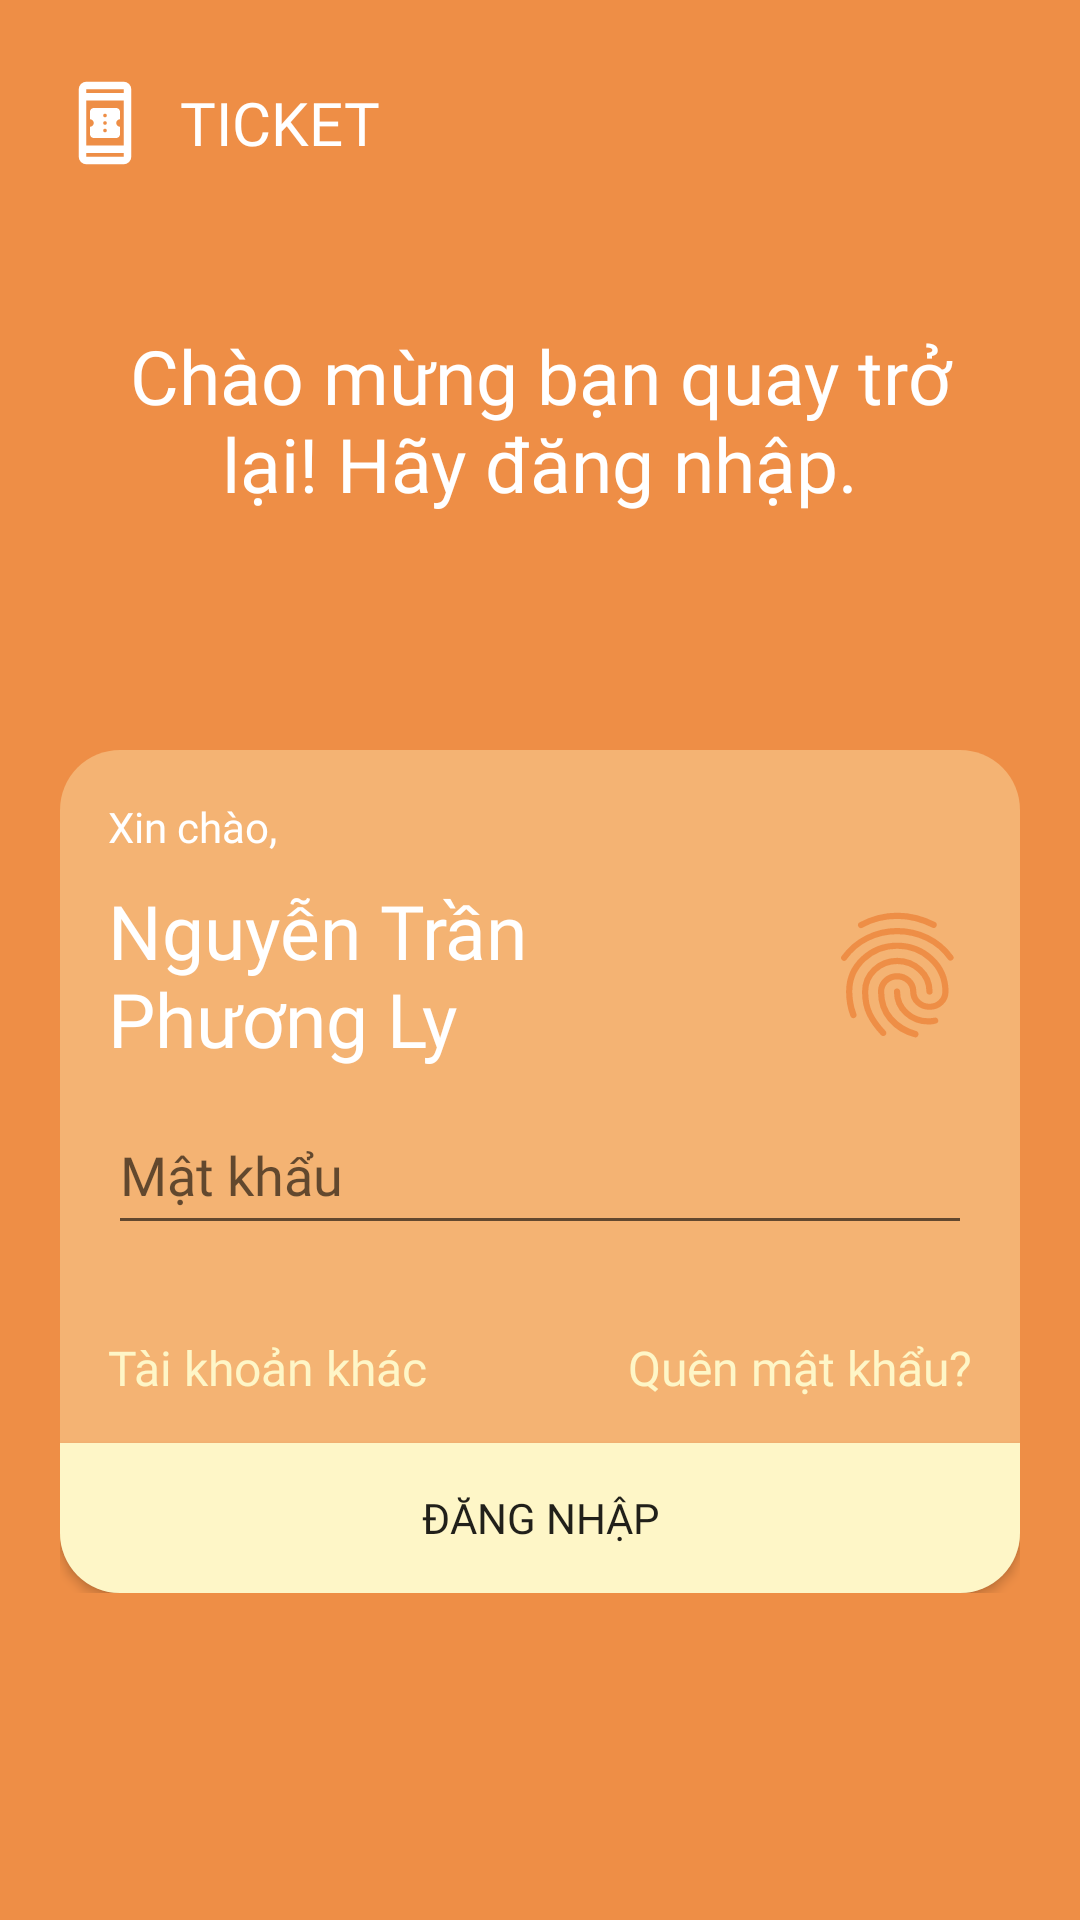

Where to tap for icons on this 1080px x 1920px app screen, as (x=x, y=y):
book online: (x=105, y=123)
fingerprint: (x=897, y=975)
